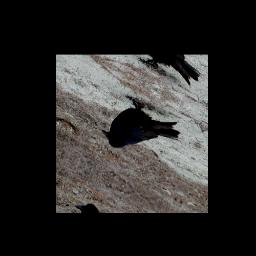Crow: (98, 89, 185, 176)
